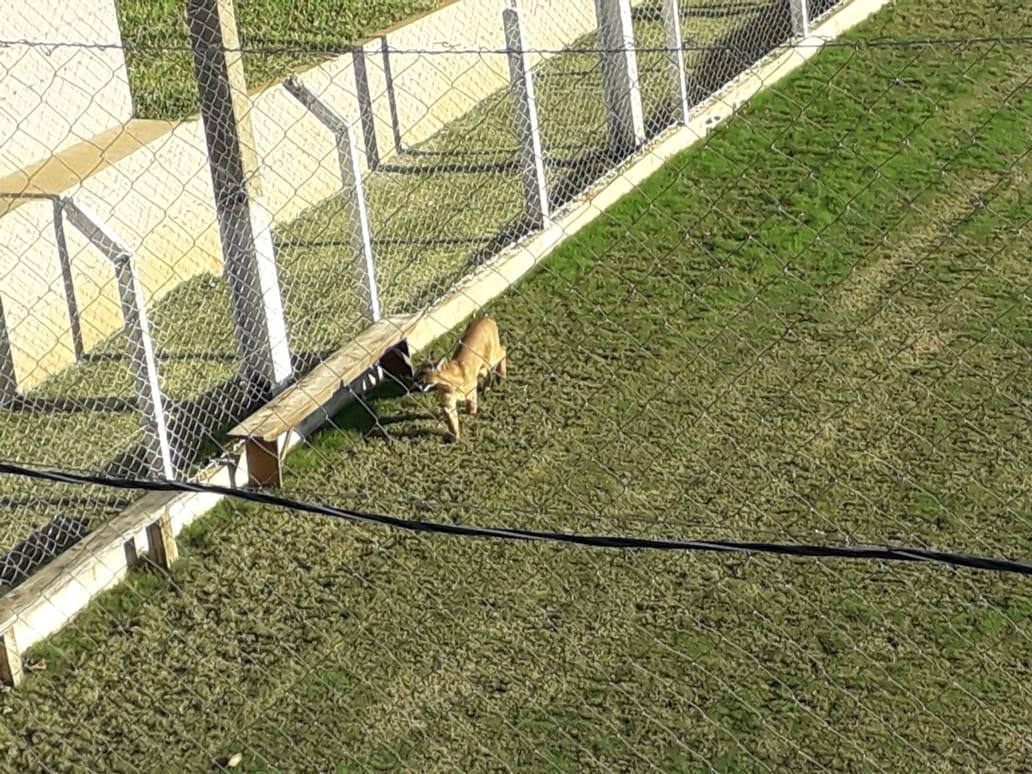OncaParda: (406, 311, 520, 449)
